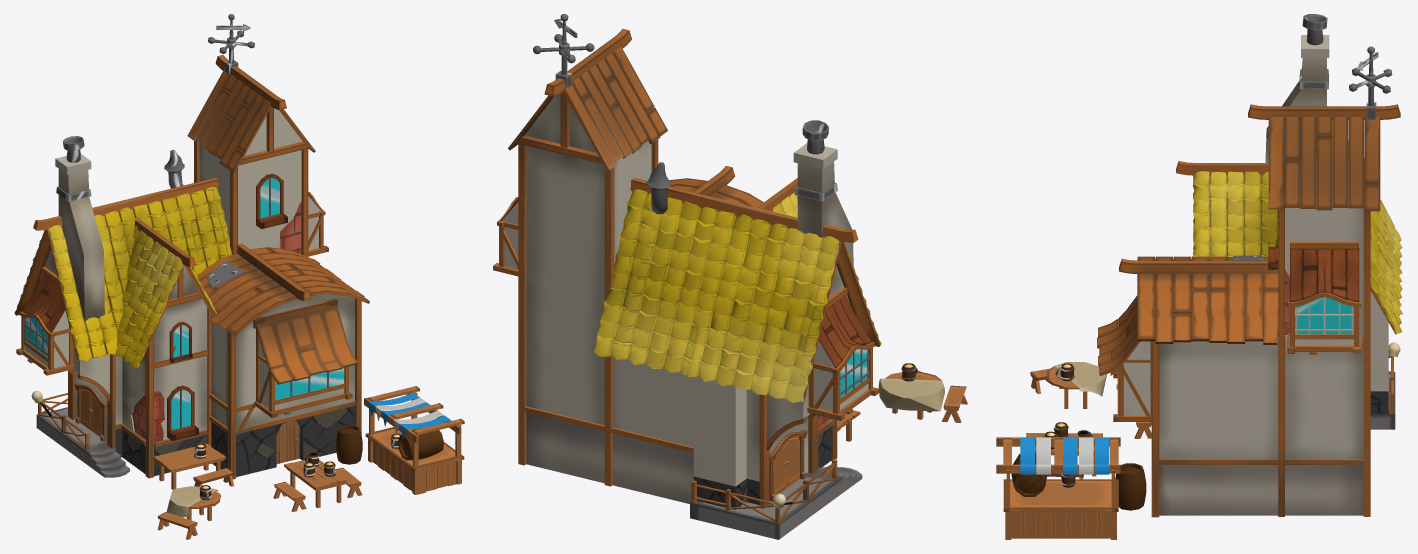
The model's file is Public House.FBX.
3 views of the same model, side by side, from view 1: azimuth 30°, elevation 25°; view 2: azimuth 150°, elevation 25°; view 3: azimuth 270°, elevation 25° (orthographic). The views are drawn at different scales.
Parts seen in each view (by area): view 1: Public House; view 2: Public House; view 3: Public House.
Boxes of the visible parts, x1,y1,x2,y2 form: Public House: [14, 14, 464, 539]; Public House: [493, 14, 967, 539]; Public House: [996, 14, 1403, 539].
Size of the model in its own units: 107 by 129 by 106.
